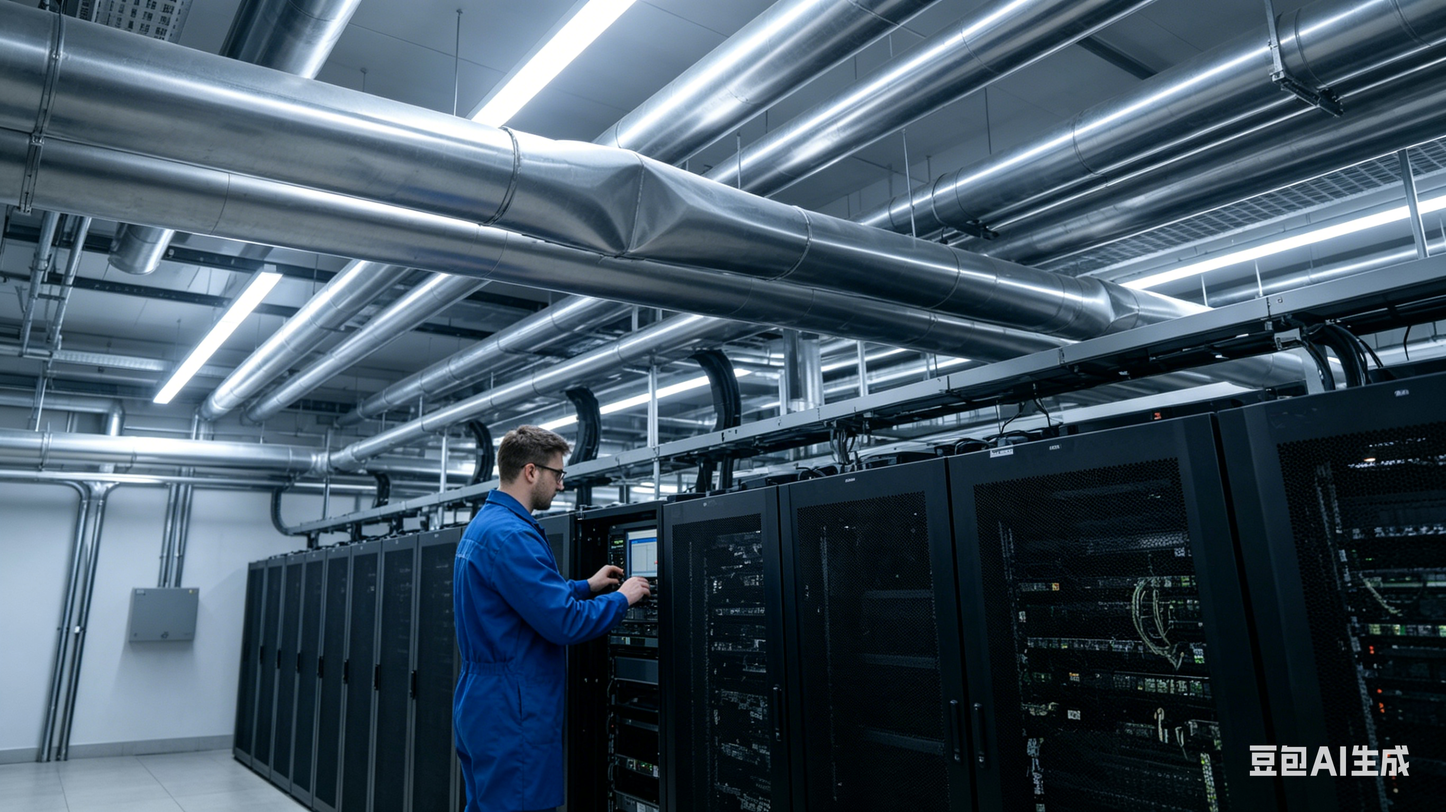Leakage: (560, 148, 692, 255)
